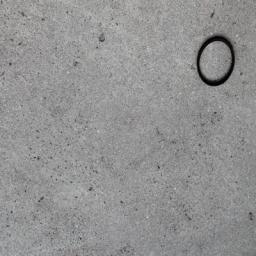FOD: (196, 36, 238, 91)
